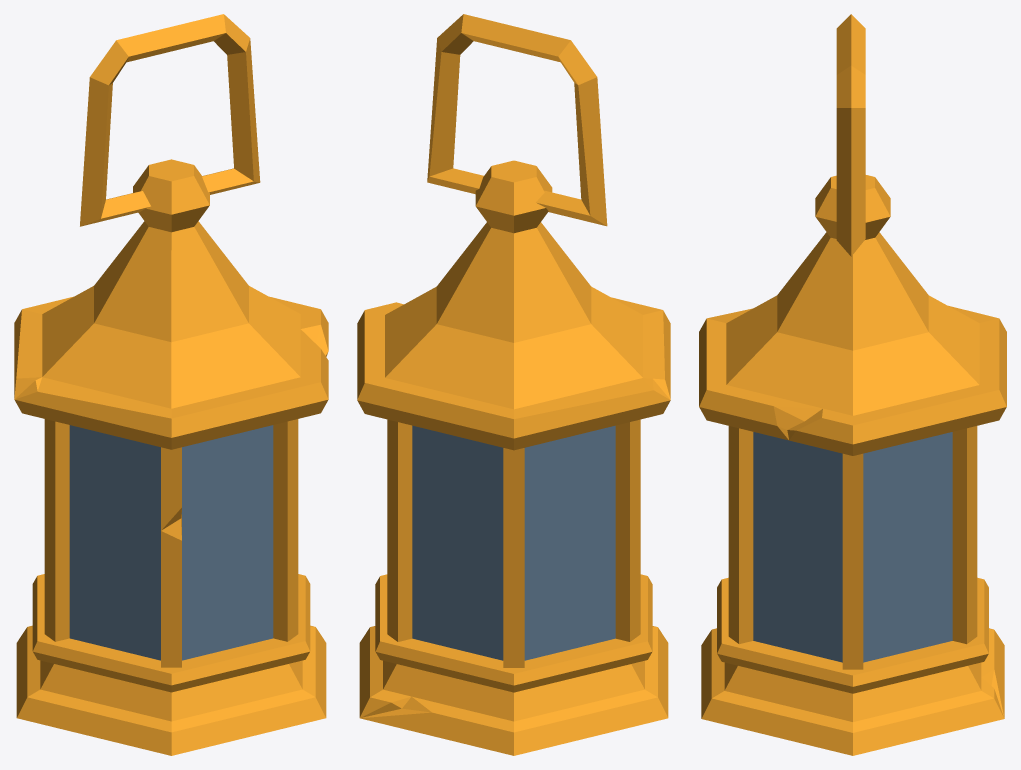
File: SM_Lantern_B_Fantasy.fbx
3 views of the same model, side by side, from view 1: azimuth 30°, elevation 25°; view 2: azimuth 150°, elevation 25°; view 3: azimuth 270°, elevation 25° (orthographic). The views are drawn at different scales.
Parts seen in each view (by area): view 1: lantern-b-fantasy; view 2: lantern-b-fantasy; view 3: lantern-b-fantasy.
Boxes of the visible parts, x1,y1,x2,y2 form: lantern-b-fantasy: [14, 14, 328, 755]; lantern-b-fantasy: [357, 14, 670, 755]; lantern-b-fantasy: [699, 14, 1006, 755].
Bounding box in the file's own units: 0.2716 × 0.5406 × 0.2352.
